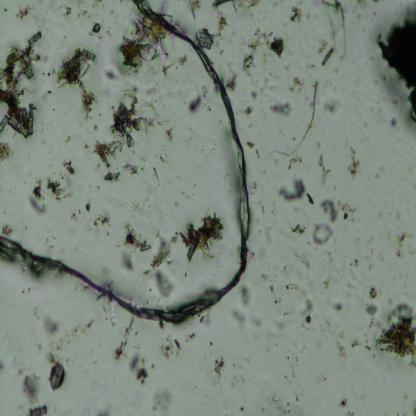Background material: (81, 107, 174, 164), (372, 6, 416, 122), (273, 82, 319, 166), (53, 49, 97, 119), (2, 46, 40, 118), (376, 299, 416, 364), (46, 315, 95, 362), (115, 41, 164, 88), (244, 22, 284, 78), (148, 231, 178, 300), (183, 208, 225, 256), (319, 323, 375, 359), (282, 280, 318, 332), (260, 384, 300, 414), (119, 223, 142, 275), (276, 177, 314, 206), (113, 316, 137, 360), (321, 198, 359, 225), (147, 382, 177, 413), (283, 345, 306, 384), (158, 330, 186, 361), (21, 370, 44, 404), (364, 282, 380, 330), (233, 288, 254, 324), (45, 176, 74, 200), (26, 182, 46, 216), (122, 77, 138, 116), (161, 53, 188, 76), (128, 353, 148, 384), (312, 221, 335, 247), (267, 98, 294, 120), (390, 233, 415, 256), (345, 142, 359, 180), (318, 151, 331, 187), (186, 96, 208, 117), (215, 12, 229, 43), (297, 247, 313, 274), (324, 249, 334, 291), (211, 352, 227, 377), (321, 97, 342, 116), (154, 147, 172, 167), (89, 216, 111, 232), (244, 139, 260, 160), (0, 137, 12, 164), (289, 221, 308, 238), (28, 401, 49, 416), (290, 74, 307, 92), (226, 68, 239, 91), (236, 0, 260, 12), (101, 169, 121, 183), (122, 161, 140, 176), (268, 284, 281, 304), (289, 5, 302, 24), (104, 66, 117, 84), (287, 155, 303, 169), (0, 224, 15, 238), (346, 257, 361, 271), (211, 0, 234, 8), (249, 86, 262, 99), (185, 329, 196, 343), (338, 397, 350, 409), (332, 301, 343, 314), (62, 161, 73, 174), (154, 166, 160, 185), (246, 103, 253, 116), (84, 203, 92, 214), (70, 213, 78, 221), (172, 200, 181, 207)
Cotton: (2, 5, 254, 329)
Diatom: (50, 362, 66, 390), (9, 116, 28, 138), (197, 30, 213, 51), (186, 237, 200, 259), (322, 48, 334, 66), (28, 30, 42, 45), (28, 103, 34, 135), (118, 103, 130, 118), (82, 49, 96, 61), (0, 114, 9, 130), (24, 66, 34, 80), (140, 240, 151, 251), (5, 53, 16, 64)
Glass filter fibre: (326, 1, 347, 60)
